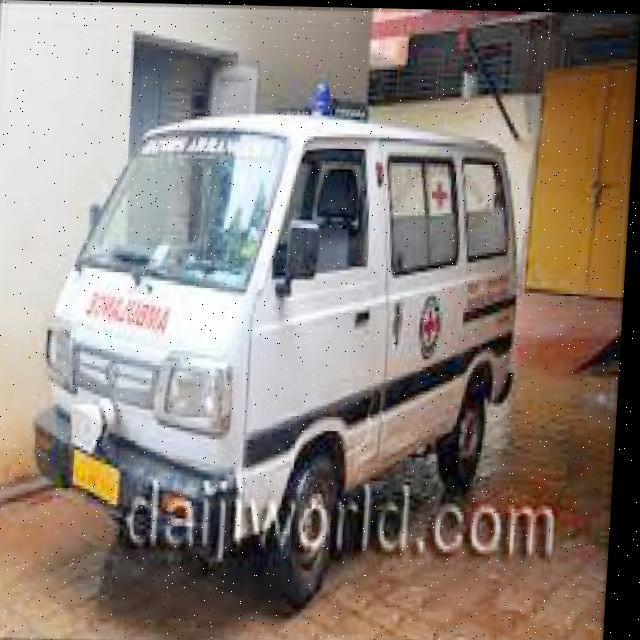Ambulance: (25, 83, 538, 610), (0, 274, 624, 640)
